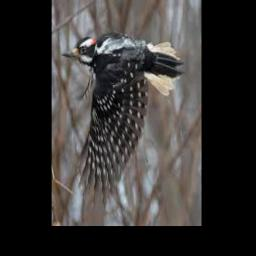Woodpecker: (62, 31, 184, 204)
